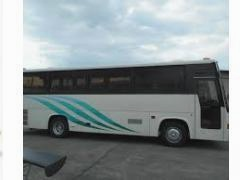bus: (24, 58, 227, 148)
